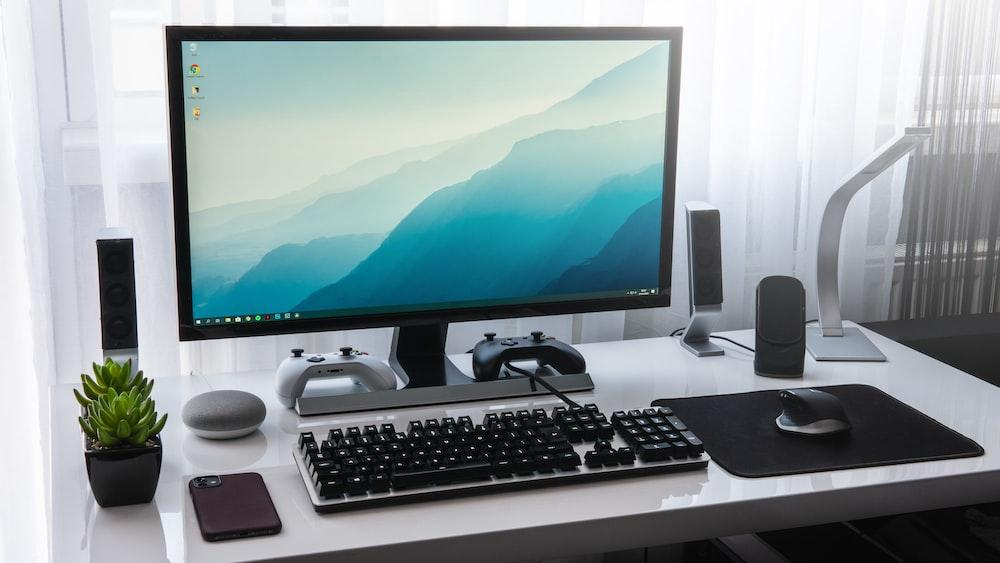monitor: (164, 24, 684, 343)
